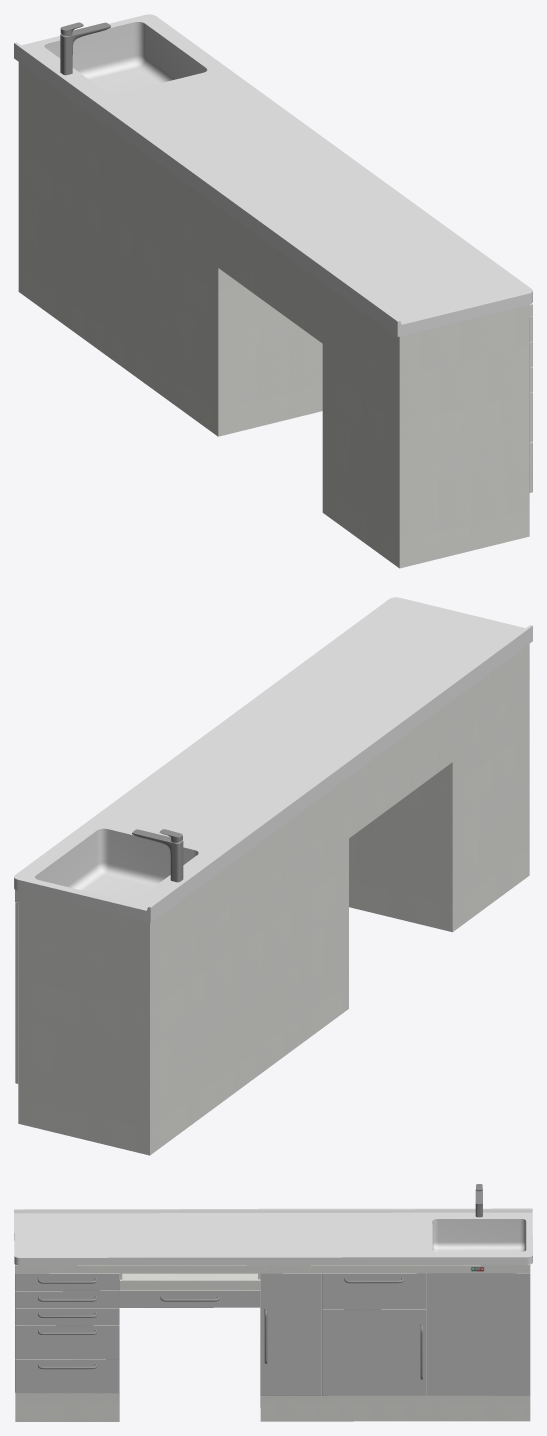
The model's file is washbar2.fbx.
The picture shows the model from 3 angles, top to bottom: view 1: azimuth 30°, elevation 25°; view 2: azimuth 150°, elevation 25°; view 3: azimuth 270°, elevation 25°; orthographic projection. The views are drawn at different scales.
Parts seen in each view (by area): view 1: table79; view 2: table79; view 3: table79.
Boxes of the visible parts, box(x1,y1,x2,y2) form: table79: box(14, 14, 532, 568); table79: box(14, 597, 532, 1155); table79: box(14, 1184, 532, 1421).
Bounding box in the file's own units: 247 × 55.77 × 103.
